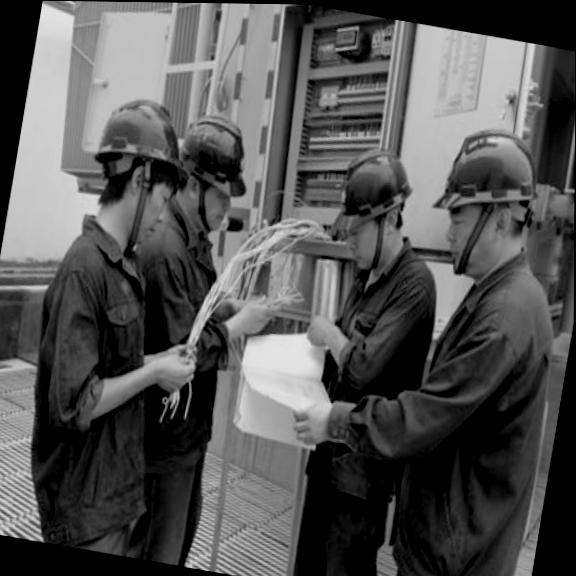no_safety_vest: (370, 235, 571, 576), (2, 216, 170, 551), (284, 235, 434, 514), (101, 212, 236, 483)
